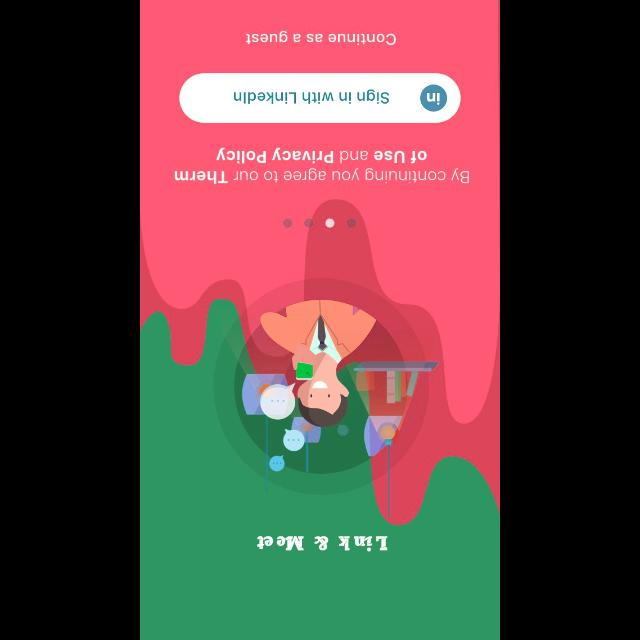backgroundimage: (139, 1, 499, 640)
pageindicator: (282, 218, 356, 228)
text: (173, 147, 469, 185), (244, 30, 396, 46), (256, 535, 386, 551)
textbutton: (178, 73, 460, 123)
